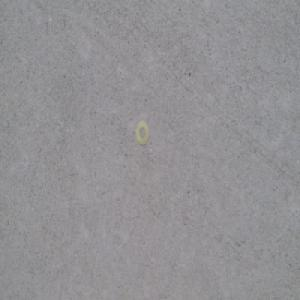Washer: (136, 120, 150, 147)
